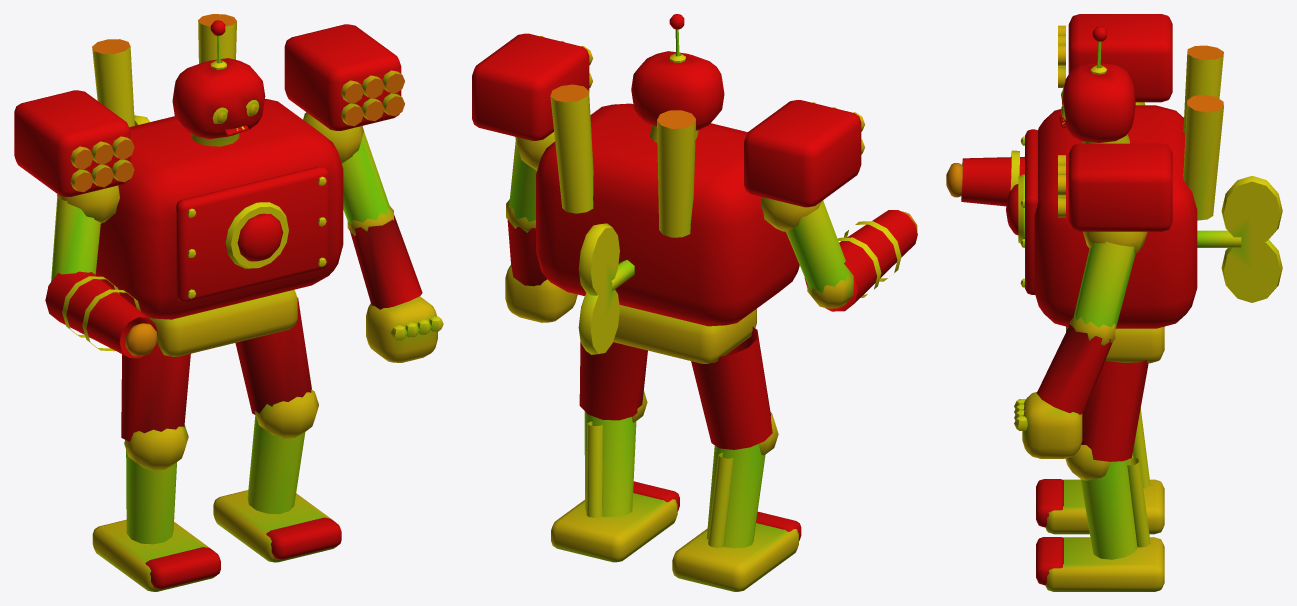
File: Colossus.glb
3 views of the same model, side by side, from view 1: azimuth 30°, elevation 25°; view 2: azimuth 150°, elevation 25°; view 3: azimuth 270°, elevation 25° (orthographic). The views are drawn at different scales.
Visible parts, largest first — view 1: Colossus; view 2: Colossus; view 3: Colossus.
Boxes of the visible parts, x1=… form: Colossus: x1=14, y1=14, x2=443, y2=591; Colossus: x1=472, y1=14, x2=917, y2=591; Colossus: x1=946, y1=14, x2=1282, y2=591.
Size of the model in its own units: 4.68 by 6.53 by 3.81.
